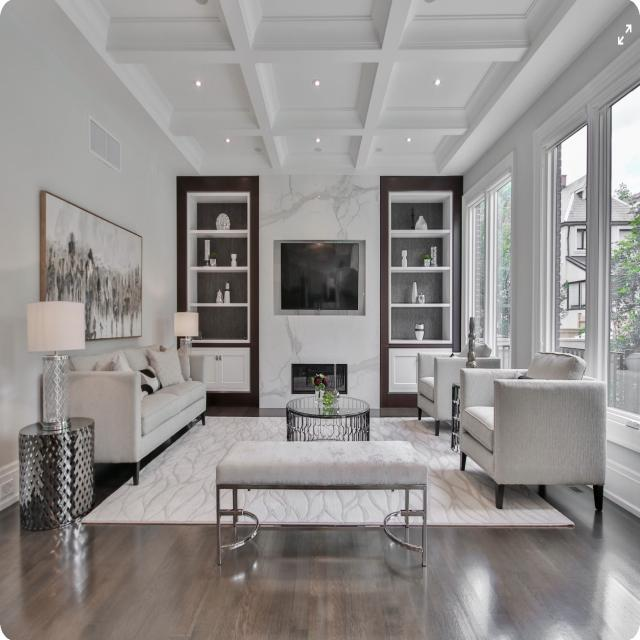cabinet: (172, 163, 260, 406), (378, 171, 461, 413)
lamp: (25, 300, 88, 420)
picture: (35, 184, 149, 346)
potted plant: (310, 366, 348, 416)
sofa: (464, 358, 610, 527), (62, 333, 214, 492)
table: (218, 439, 436, 576)
television: (274, 234, 364, 316)
